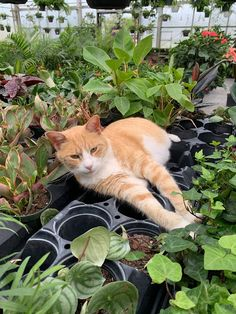cat: (45, 114, 198, 232)
